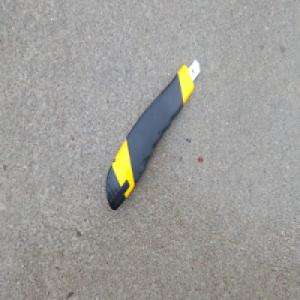Cutter: (104, 55, 202, 212)
